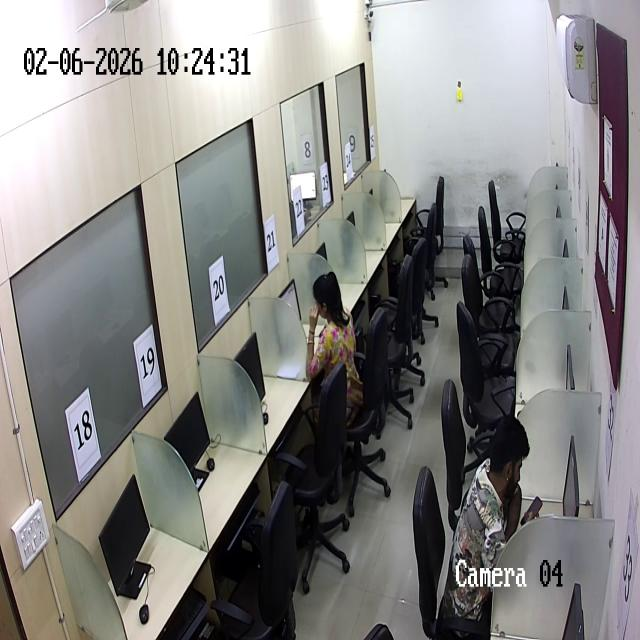phone: (520, 492, 543, 526)
